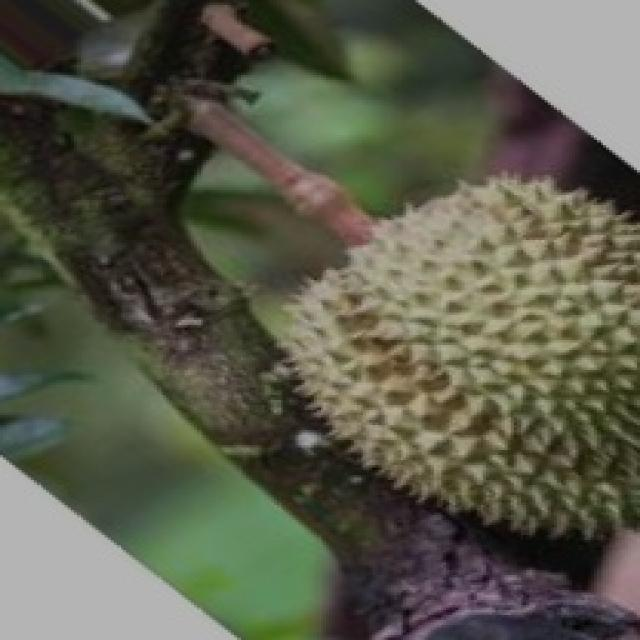fruit: (228, 105, 634, 543)
